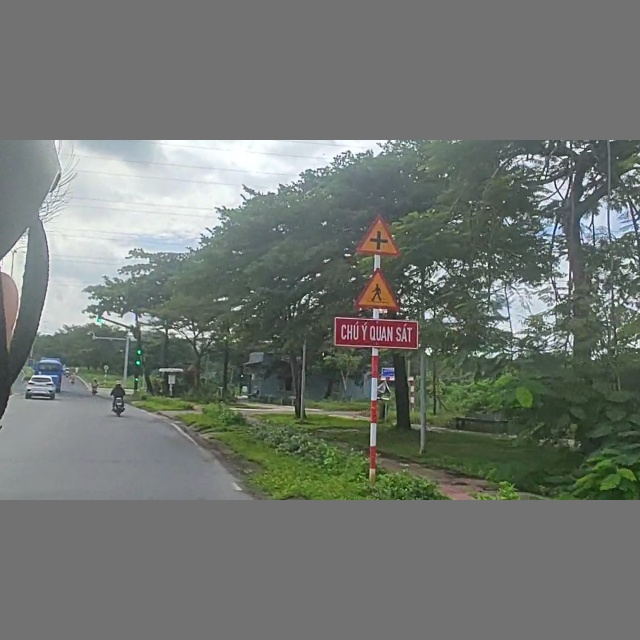W.205a: (355, 215, 401, 257)
W.224: (355, 265, 404, 309)
